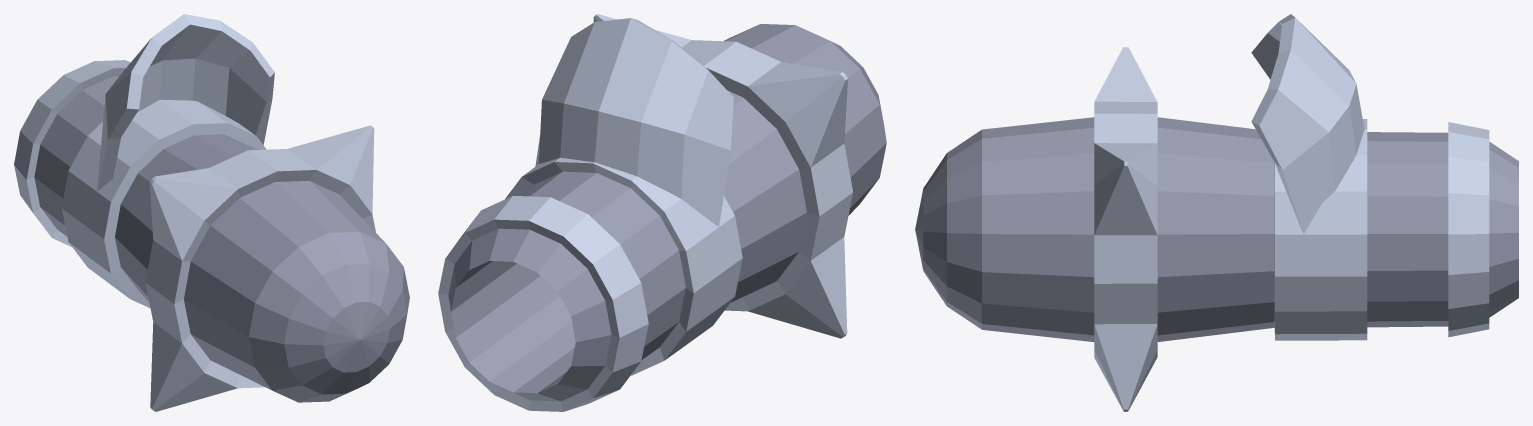
The model's file is rocketlauncher_tube3.fbx.
3 views of the same model, side by side, from view 1: azimuth 30°, elevation 25°; view 2: azimuth 150°, elevation 25°; view 3: azimuth 270°, elevation 25° (orthographic). The views are drawn at different scales.
Visible parts, largest first — view 1: tube, tube.001; view 2: tube, tube.001; view 3: tube, tube.001.
Part boxes in pixels (x1,y1,x2,y2): tube: (14, 60, 409, 411); tube.001: (97, 14, 274, 190); tube: (438, 14, 886, 411); tube.001: (535, 18, 733, 226); tube: (915, 47, 1518, 411); tube.001: (1251, 14, 1364, 233).
Bounding box in the file's own units: 17.14 × 23.01 × 37.26.
